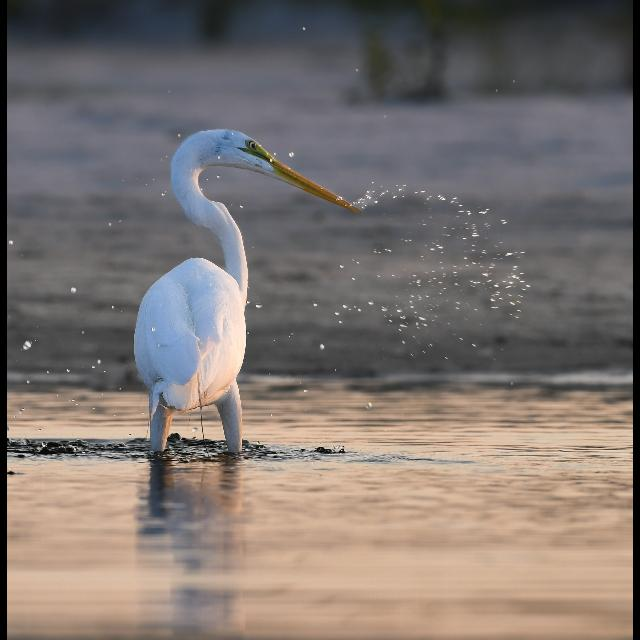egret: (132, 126, 342, 456)
